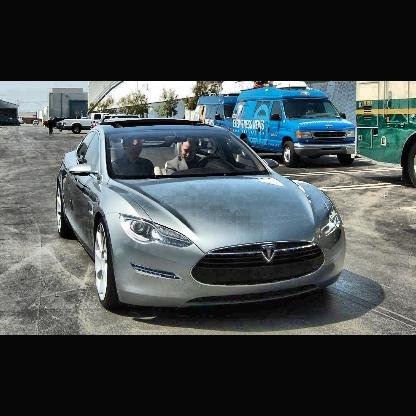Tesla Model S Sedan 2012: (57, 121, 349, 308)
